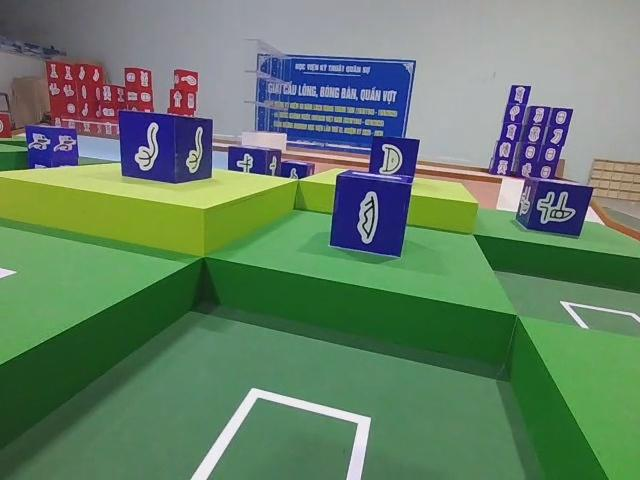R2 Real Blue: (328, 170, 413, 261), (117, 112, 213, 187), (517, 178, 596, 239), (226, 145, 279, 178)
